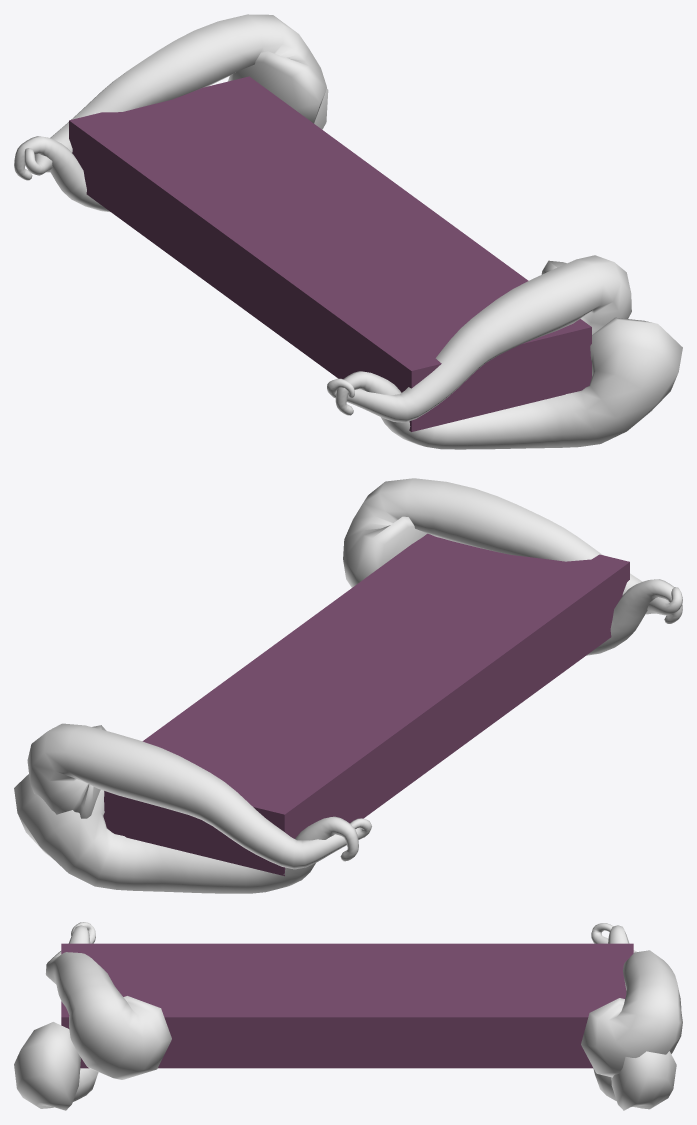
The model's file is พื้นสะพาน1.fbx.
3 views of the same model, one above another, from view 1: azimuth 30°, elevation 25°; view 2: azimuth 150°, elevation 25°; view 3: azimuth 270°, elevation 25° (orthographic). The views are drawn at different scales.
Visible parts, largest first — view 1: Plane.002; view 2: Plane.002; view 3: Plane.002.
Part boxes in pixels (x1,y1,x2,y2): Plane.002: (14, 14, 682, 449); Plane.002: (14, 478, 682, 893); Plane.002: (14, 922, 682, 1110).
Bounding box in the file's own units: 947 × 440 × 2003.
2 materials, 1 textured.
